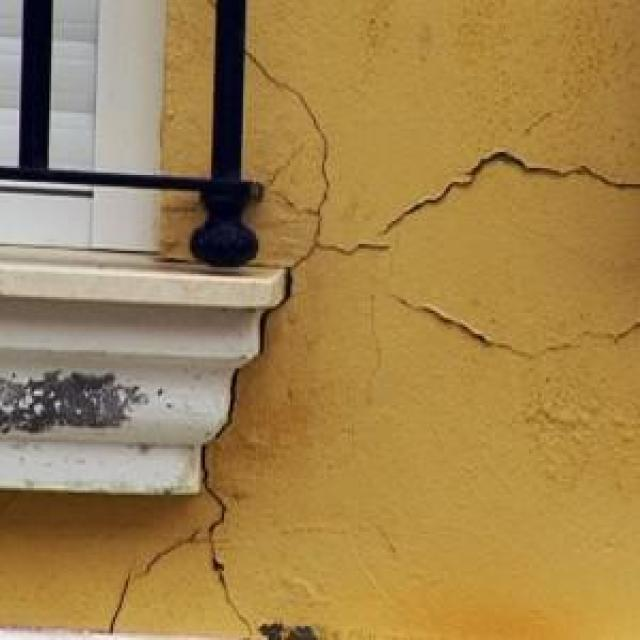crack: (198, 272, 293, 634), (246, 44, 392, 274), (372, 149, 638, 236), (393, 294, 638, 357), (135, 526, 208, 576), (105, 575, 134, 637)
